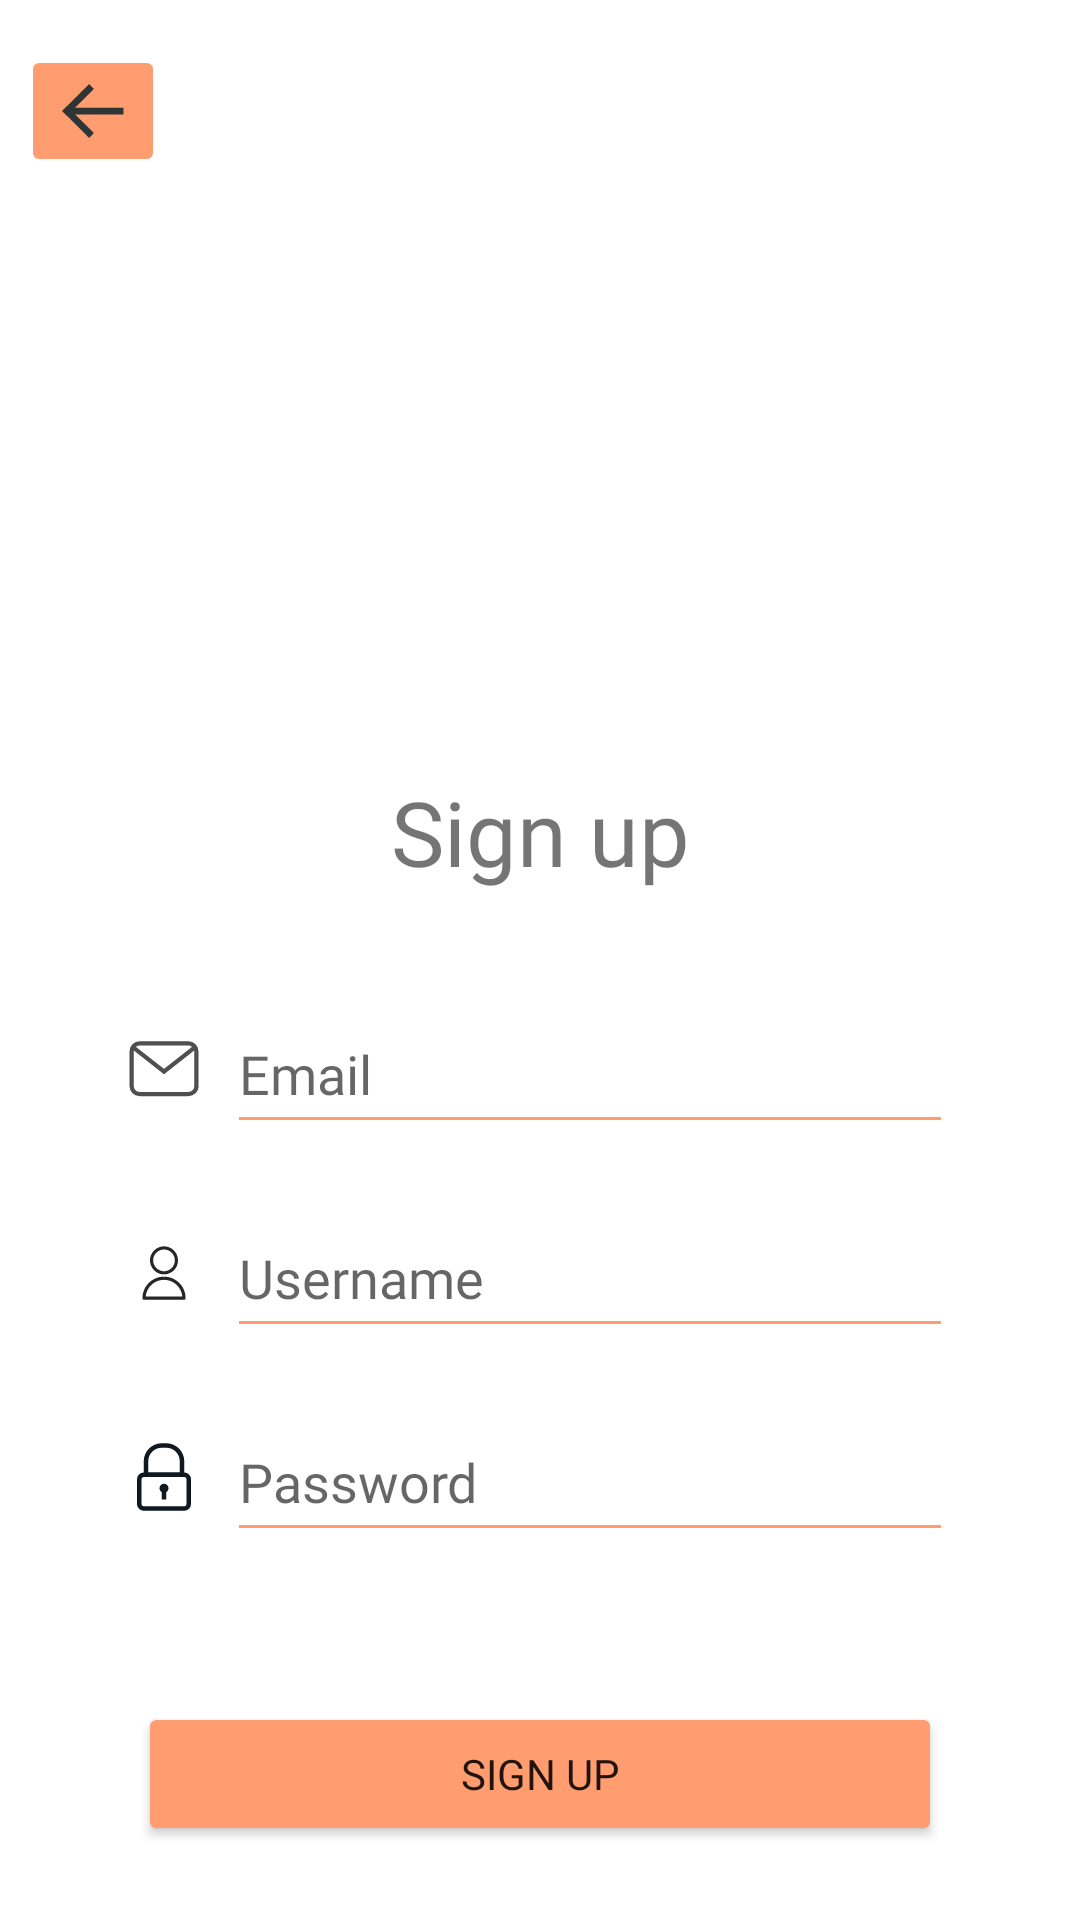

Screen size 1080 x 1920. Icon name, then its center in pixels as (x=x, y=y):
back: (x=93, y=111)
